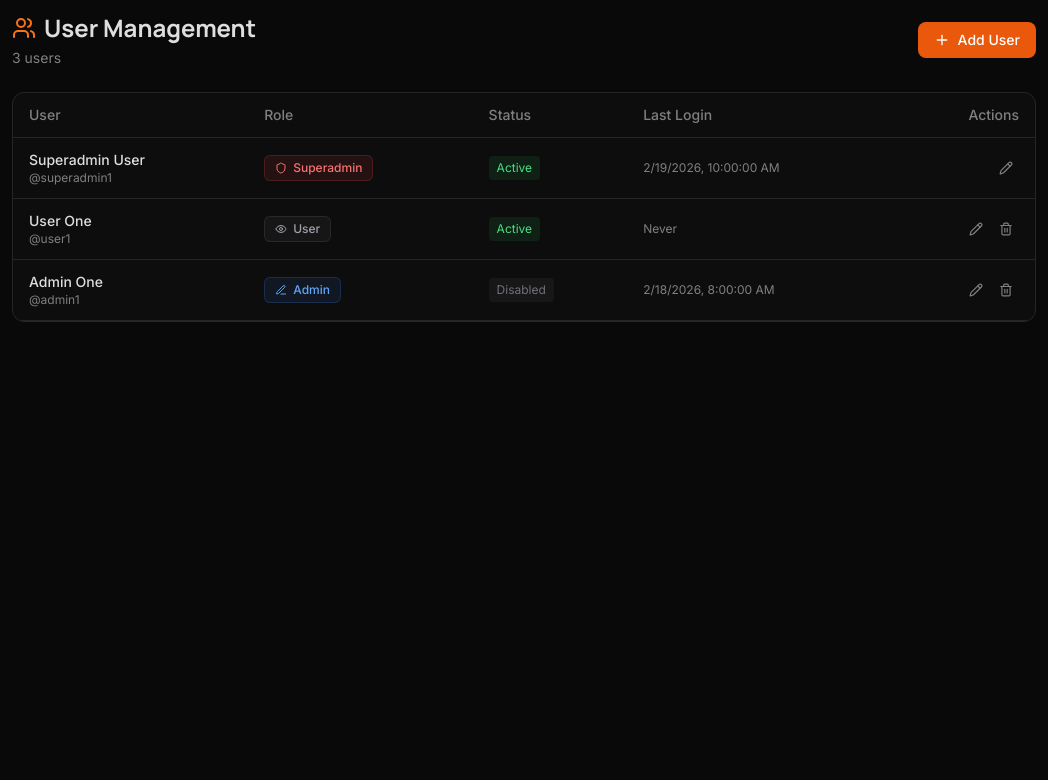
Test case: UsersPage › opens create user form on Add User click
The image size is (1048, 780).
Step 1. Click the button "Add User" → [977, 40], box x1=918 y1=22 x2=1036 y2=58
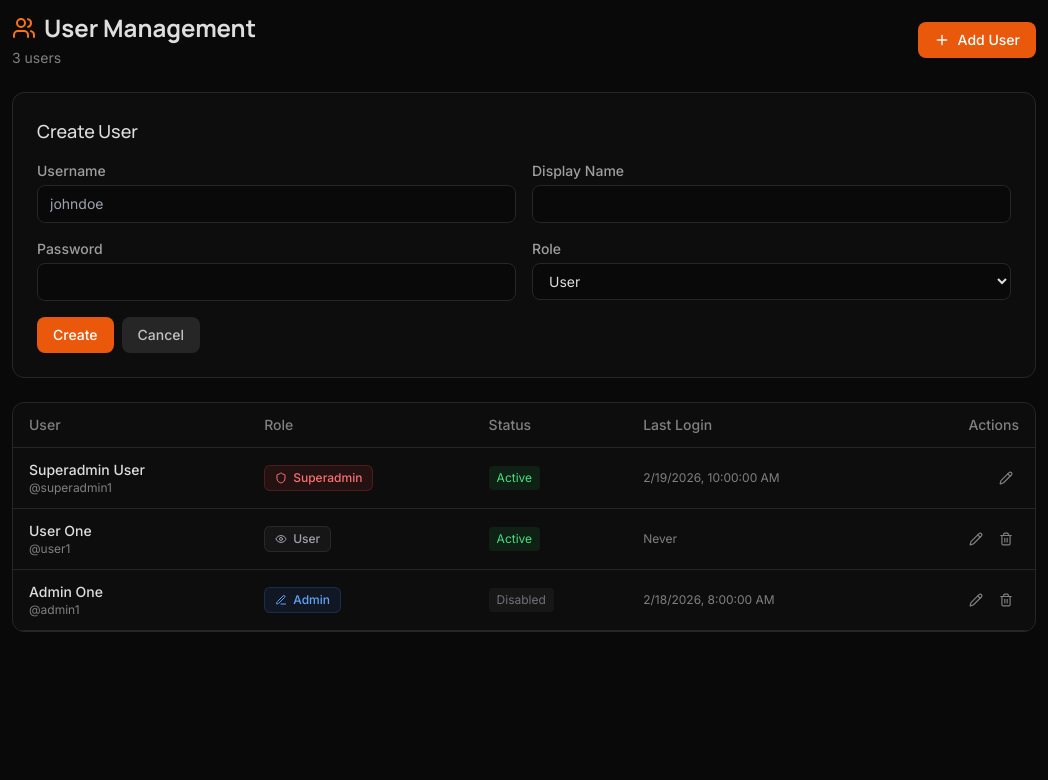
Result: the heading "Create User" is shown at x1=37 y1=119 x2=138 y2=143
